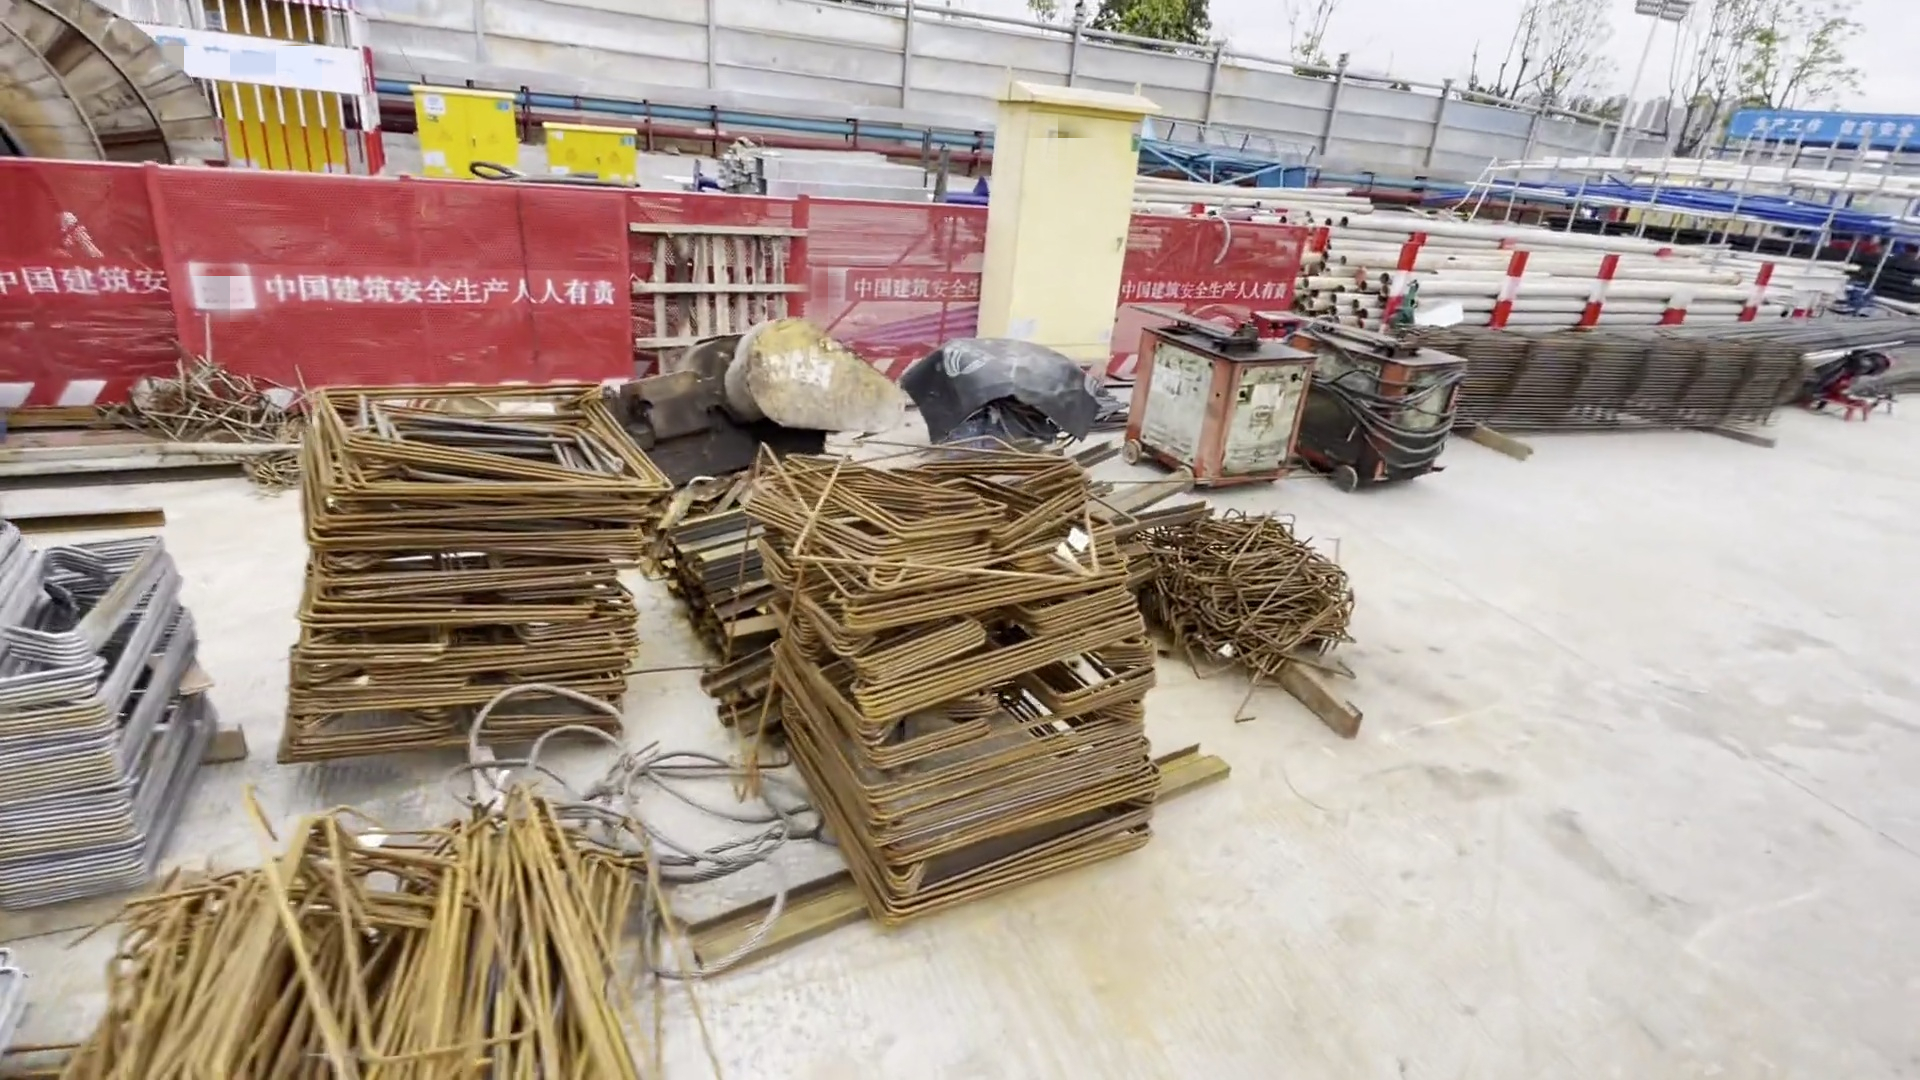cutter: (1811, 349, 1888, 436)
ebox: (968, 71, 1150, 378), (397, 84, 521, 185), (535, 117, 645, 187)
fence: (1, 152, 978, 398), (1112, 202, 1325, 335)
rebar: (1660, 316, 1920, 388)
